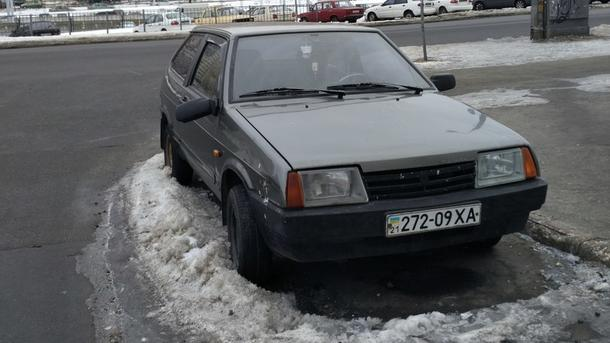car: (156, 24, 548, 274)
plate: (384, 203, 482, 234)
